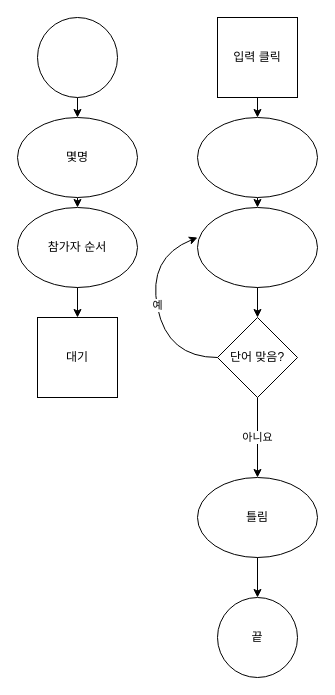
Image size: 335x695. Some labels were removed from this diagram. Each missing label, with the centre of its shape:
"시작" goes at pixel 77 57.
"제시어 n+1-player" goes at pixel 257 247.
"제시어 n-player" goes at pixel 257 157.
